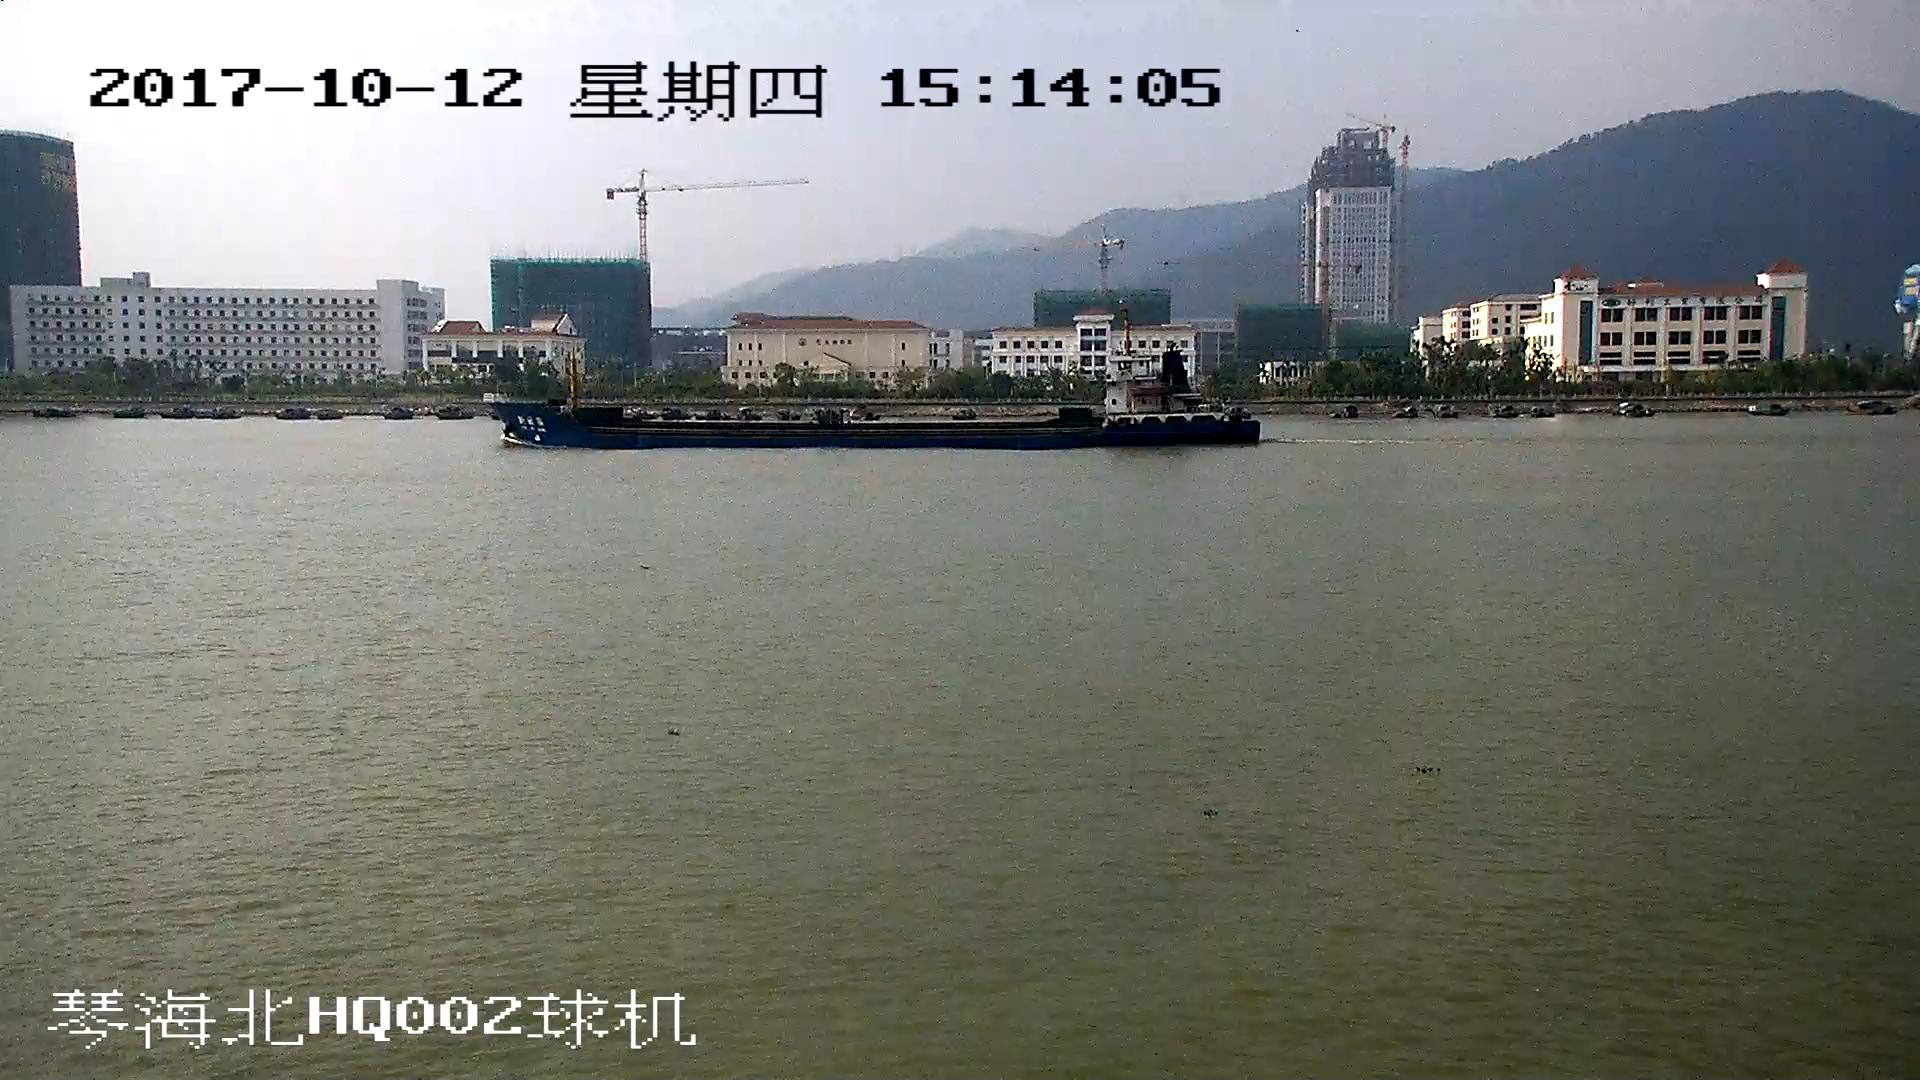general cargo ship: (491, 321, 1264, 449)
